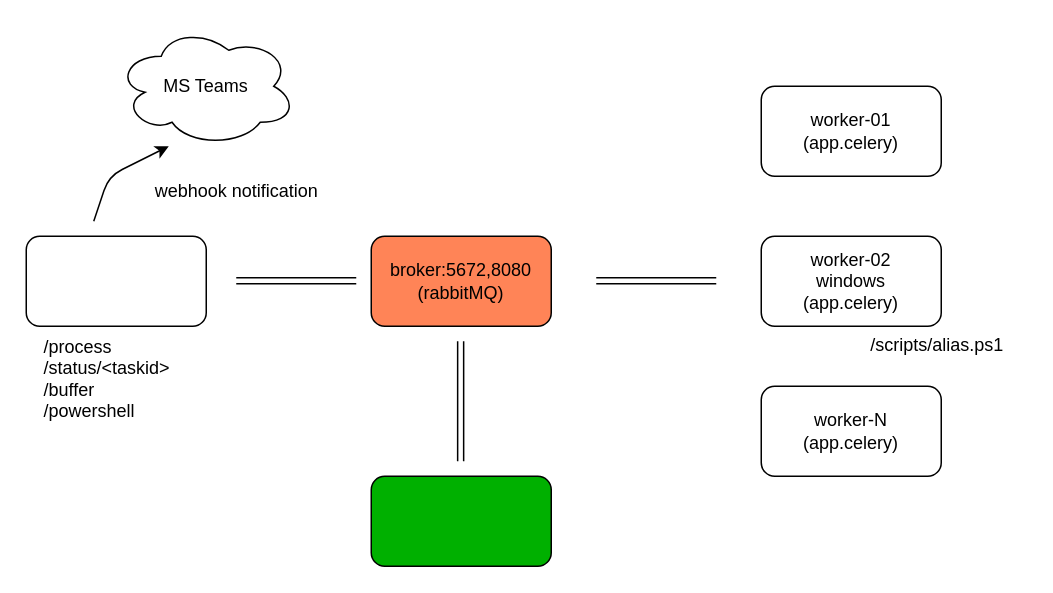
Some shapes in this 1053 by 593 pixel diagram are drawn without their labels. Here are the shapes that lost their labels. From the top down, the centre of each, then its label:
[115,280]: API app.py
[460,520]: flower:5555
